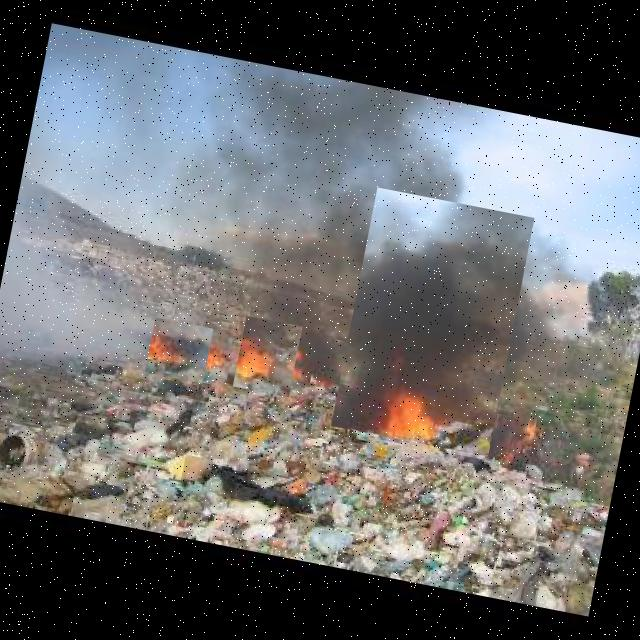fire: (331, 188, 534, 457), (232, 316, 302, 398), (144, 317, 213, 383)
